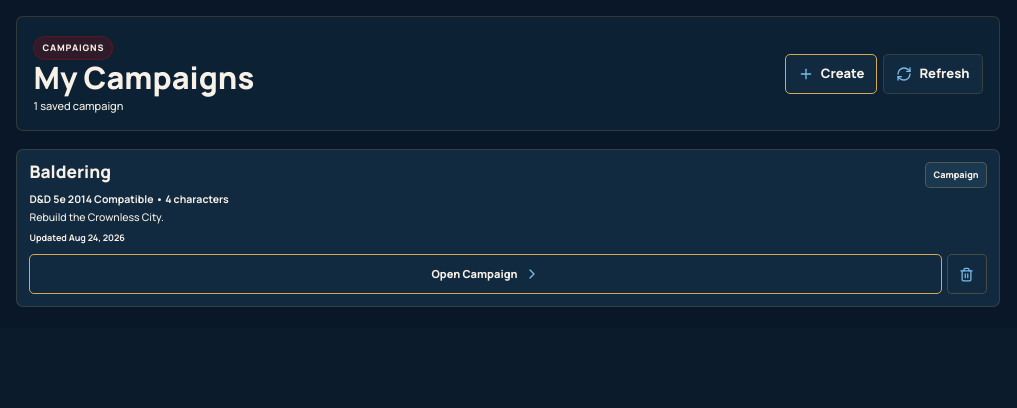
it: MyCampaignsPage simplified library › keeps loaded campaigns visible and warns when refresh fails
expect the heading "Baldering" is shown: met, box x1=30 y1=160 x2=111 y2=183
What coordinates should you click on to do the following:
click the button "Refresh"
I would click on:
 (933, 74)
Its box is x1=883 y1=54 x2=983 y2=94.
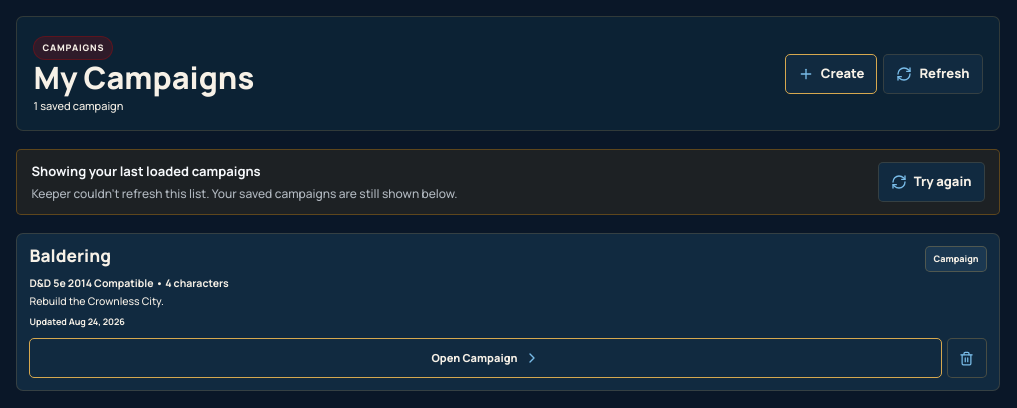
expect the heading "Baldering" is shown: met, box x1=30 y1=244 x2=111 y2=267
expect the text "Showing your last loaded campaigns" is shown: met, box x1=32 y1=162 x2=261 y2=180
expect the button "Try again" is enabled: met, box x1=878 y1=162 x2=985 y2=202
